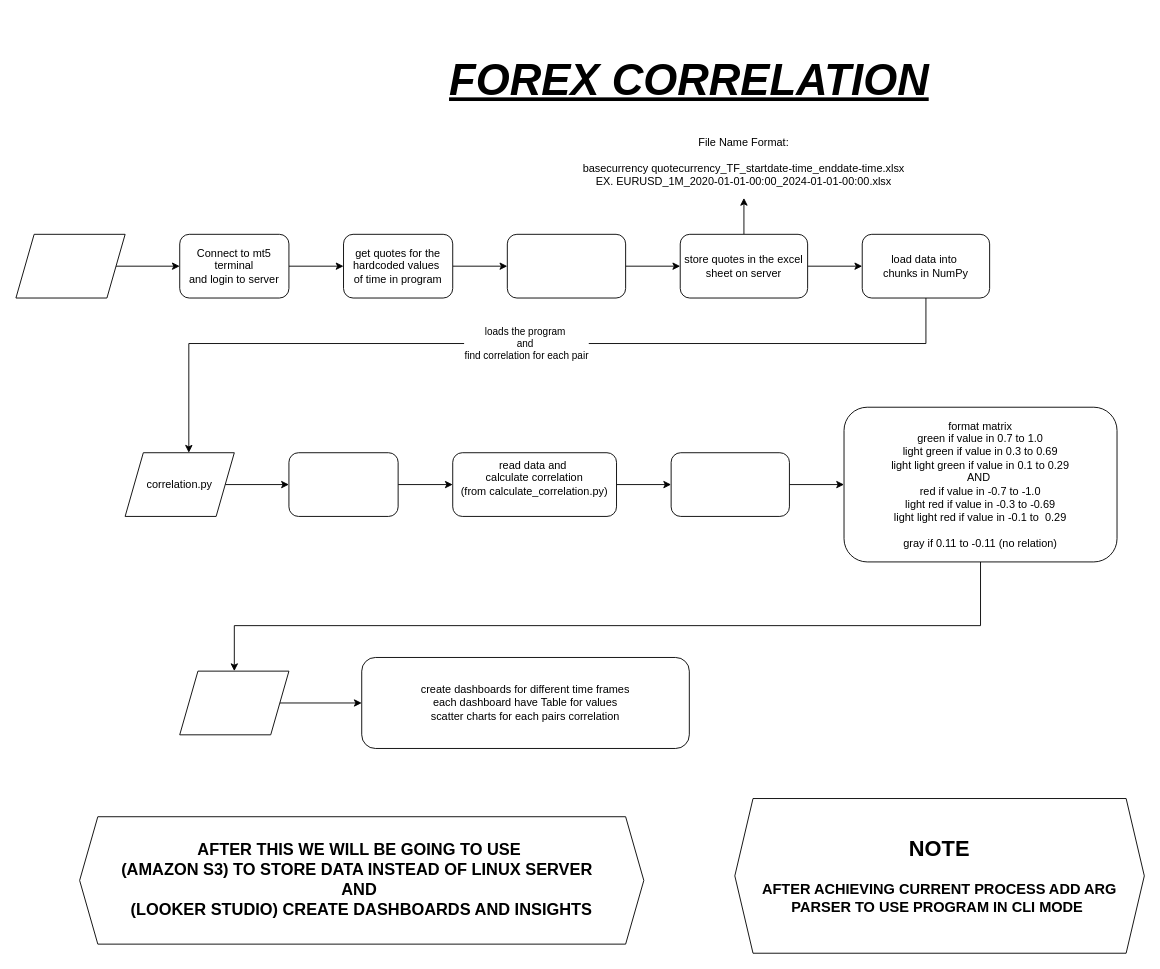
The diagram is 1160 pixels wide and 969 high, and some of its shapes have lost their labels. Here are the shapes that lost their labels. From the top down, the centre of each, then its label:
point 70,265: get_quotes.py
point 566,265: open ssh connection between linux server and program for storing quotes
point 343,484: create matrix for correlation between pairs
point 729,484: add calculated values in matrix to their fields in numpy array
point 234,702: display_result.py
